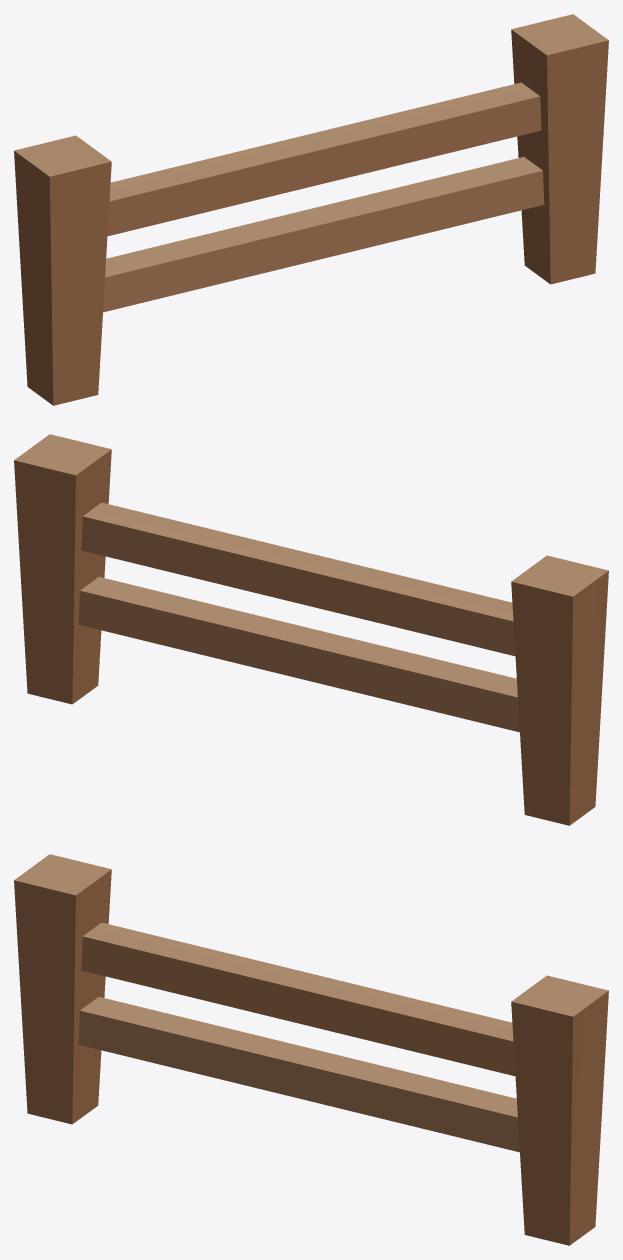
File: FBX_Fence_B.fbx
The picture shows the model from 3 angles, top to bottom: view 1: azimuth 30°, elevation 25°; view 2: azimuth 150°, elevation 25°; view 3: azimuth 330°, elevation 25°; orthographic projection.
Visible parts, largest first — view 1: Fence_B; view 2: Fence_B; view 3: Fence_B.
Part boxes in pixels (box(x1,y1,x2,y2)): Fence_B: box(14, 14, 608, 405); Fence_B: box(14, 434, 608, 825); Fence_B: box(14, 854, 608, 1245).
Bounding box in the file's own units: 200 × 22.17 × 80.22.
